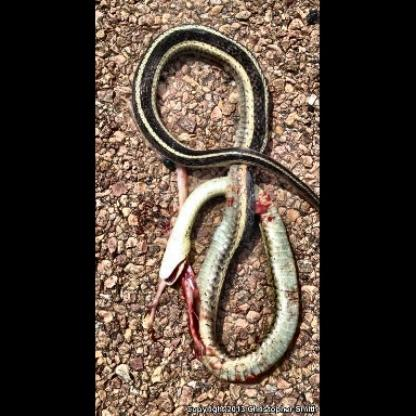Snake: (131, 22, 304, 384)
